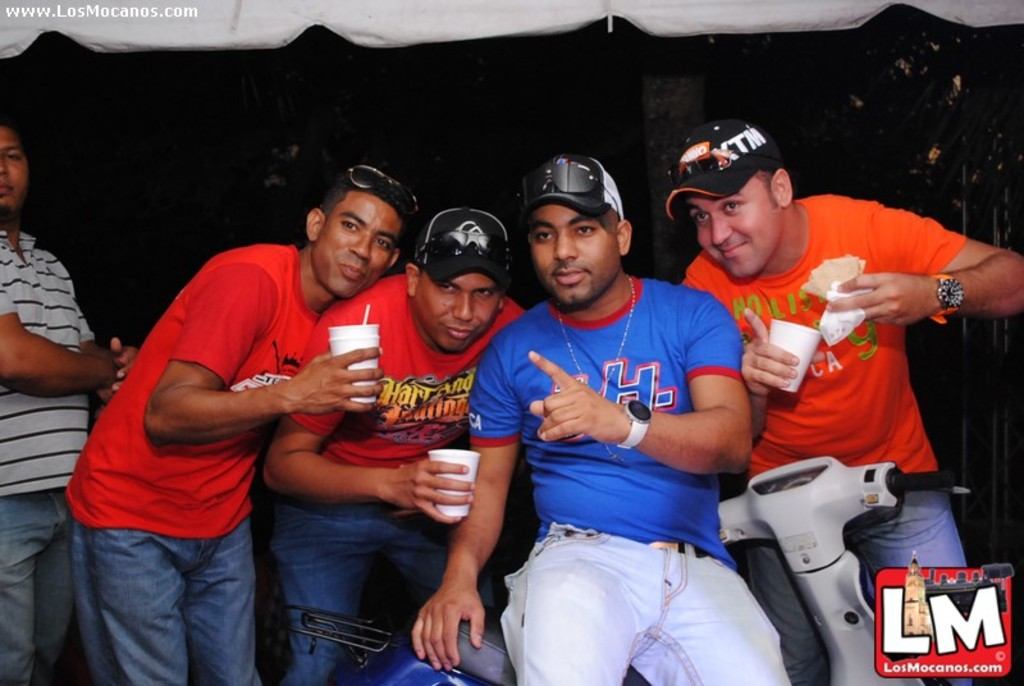Human-face: (686, 174, 782, 282), (315, 188, 393, 294), (531, 203, 609, 307), (422, 283, 506, 361), (0, 134, 27, 209)
